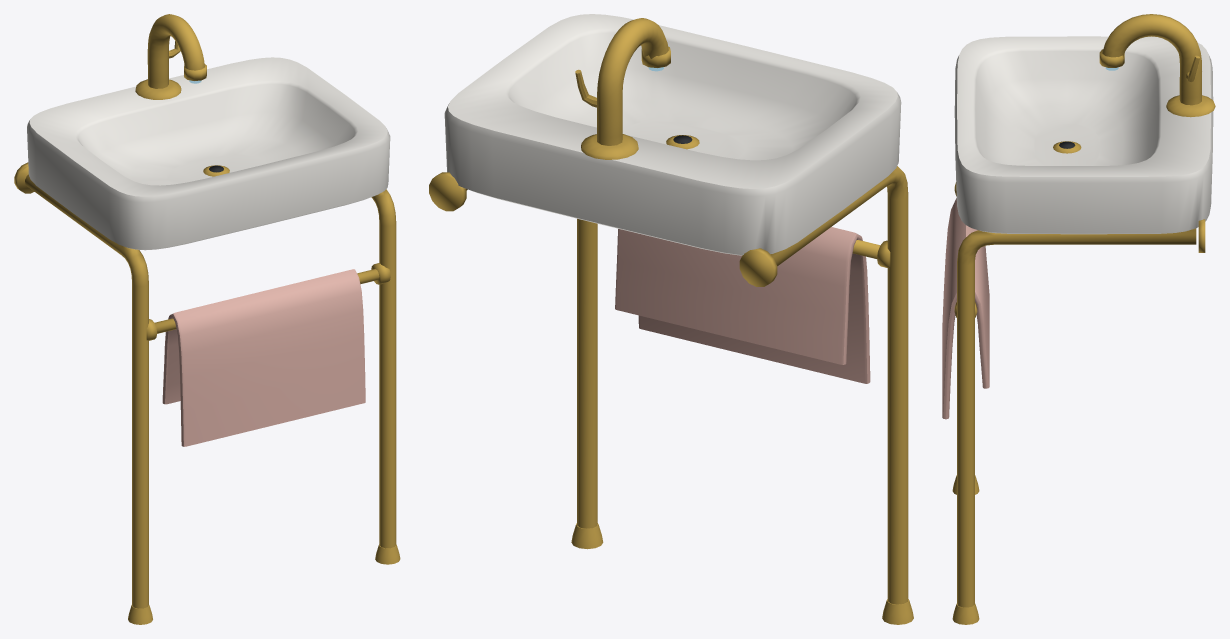
File: sinkConsole.glb
The picture shows the model from 3 angles, left to right: view 1: azimuth 30°, elevation 25°; view 2: azimuth 150°, elevation 25°; view 3: azimuth 270°, elevation 25°; orthographic projection. The views are drawn at different scales.
Parts seen in each view (by area): view 1: body; view 2: body; view 3: body.
Boxes of the visible parts, x1=… form: body: x1=14, y1=14, x2=400, y2=624; body: x1=429, y1=14, x2=913, y2=624; body: x1=942, y1=14, x2=1215, y2=624.
Bounding box in the file's own units: 0.6 × 1.06 × 0.486.
